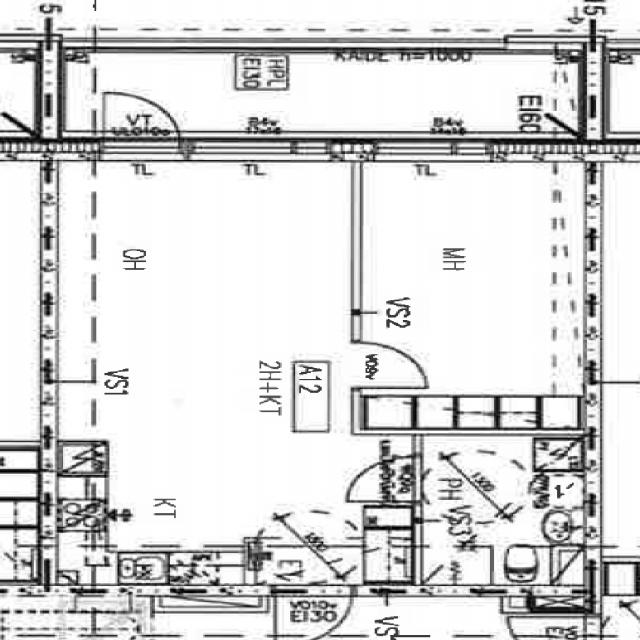door: (103, 87, 180, 160), (350, 342, 430, 388), (344, 455, 424, 501)
